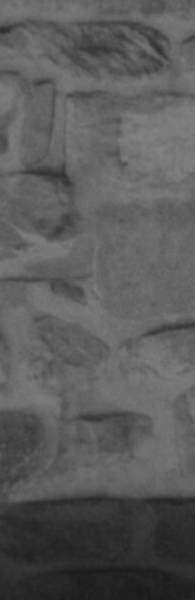water: (0, 499, 195, 600)
